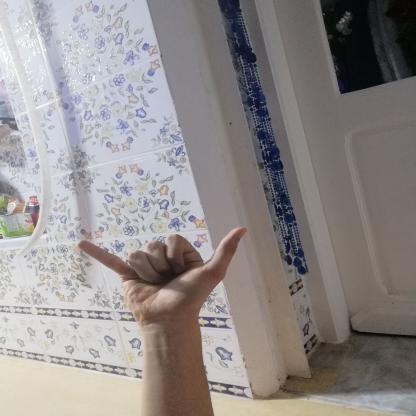YA: (67, 218, 258, 328)
